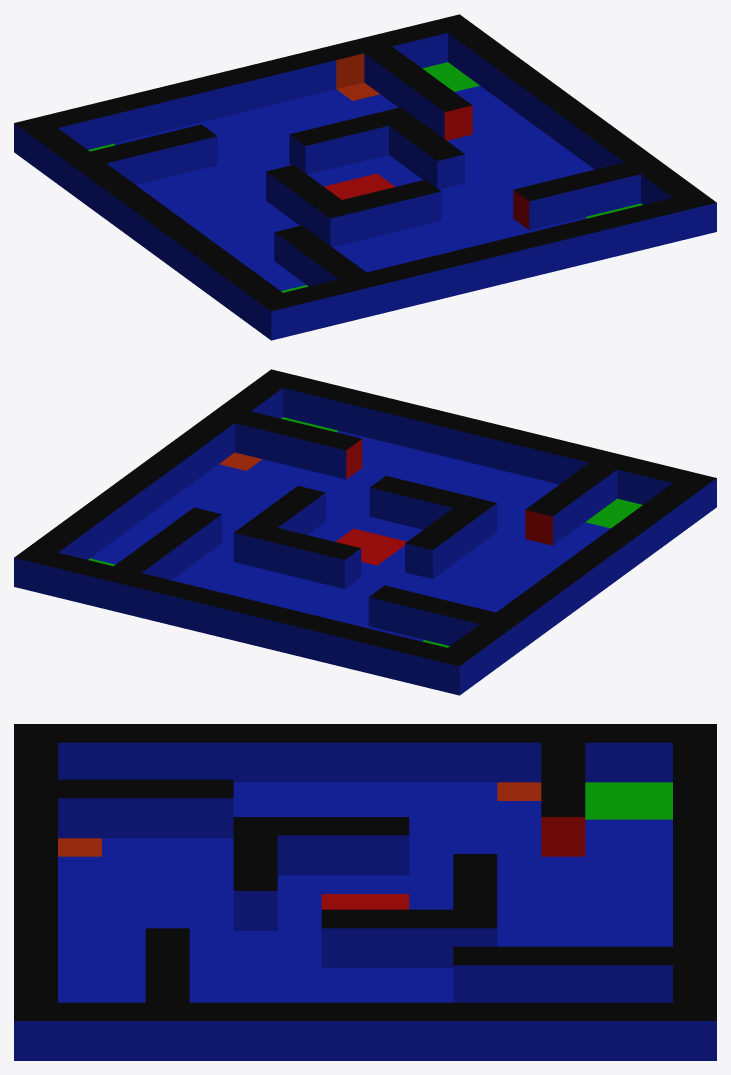
File: map.obj
3 renders of one model, top to bottom at view 1: azimuth 30°, elevation 25°; view 2: azimuth 150°, elevation 25°; view 3: azimuth 270°, elevation 25°, orthographic. The views are drawn at different scales.
Parts seen in each view (by area): view 1: Plane; view 2: Plane; view 3: Plane.
Boxes of the visible parts, x1,y1,x2,y2 form: Plane: (14,14,716,340); Plane: (14,369,716,695); Plane: (14,724,716,1060).
Size of the model in its own units: 15.97 by 1 by 15.97.
